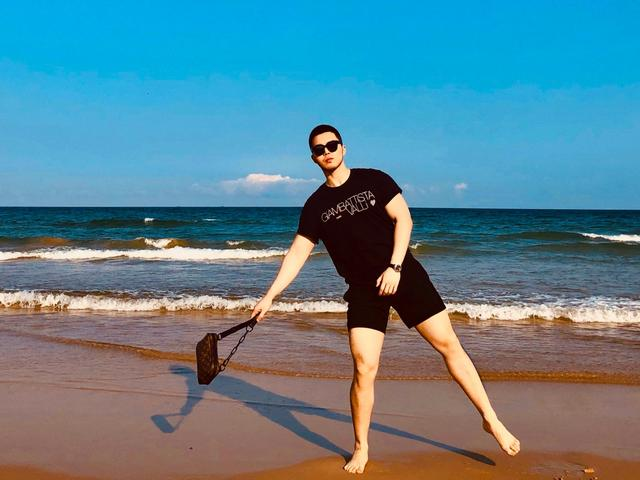person: (217, 79, 511, 480)
